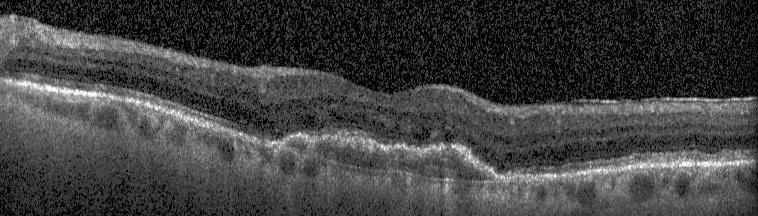subretinal_hyperreflective_material: (280, 130, 500, 181)
